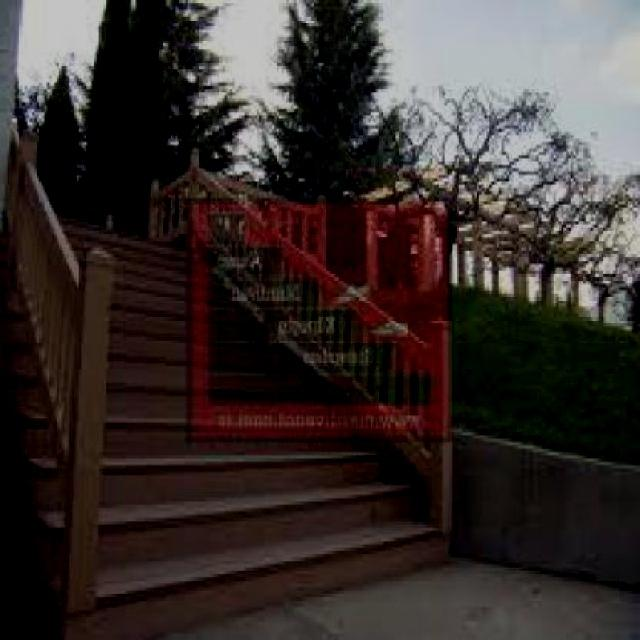stair: (14, 154, 460, 624)
